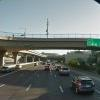Bridge: (2, 23, 99, 64)
